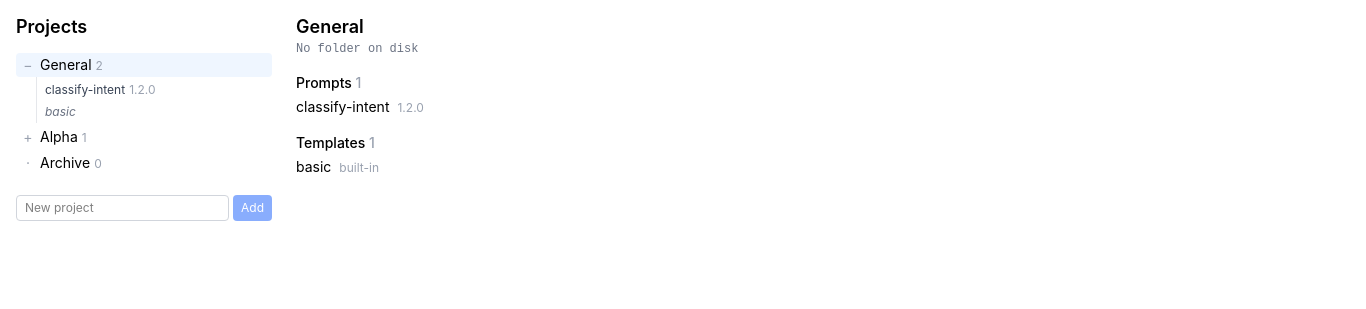
it: Projects › lets the user back out of the deletion
The image size is (1366, 309).
Expected: the heading "General" is shown, x1=296 y1=16 x2=364 y2=37
What coordinates should you click on to do the following:
click the button "Alpha1"
I would click on:
 (154, 137)
Its box is x1=40 y1=125 x2=268 y2=149.
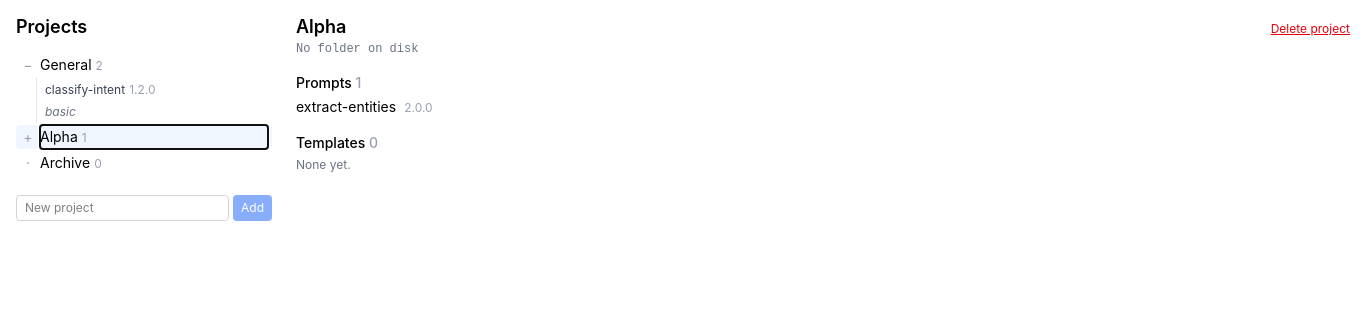
What coordinates should you click on to do the following:
click the button "Delete project"
I would click on:
 (1310, 29)
Its box is x1=1271 y1=21 x2=1350 y2=37.
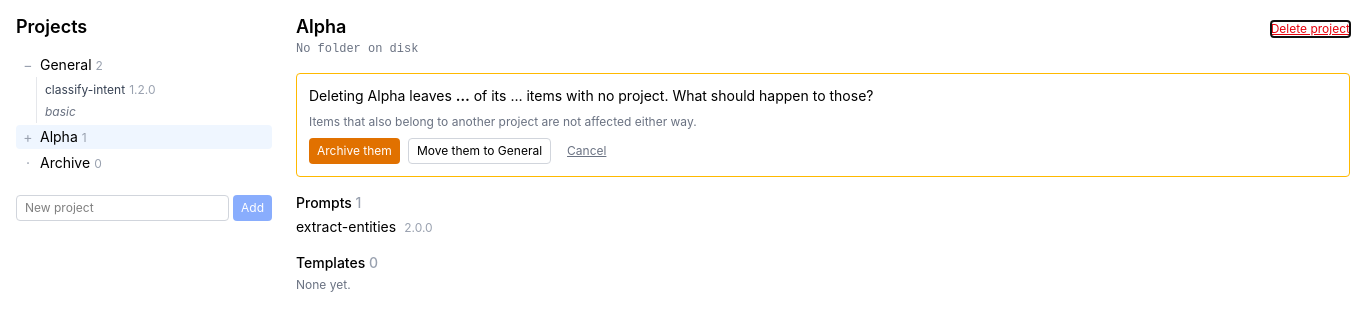
What coordinates should you click on to do the following:
click the button "Cancel"
I would click on:
 (587, 151)
Its box is x1=559 y1=138 x2=614 y2=164.
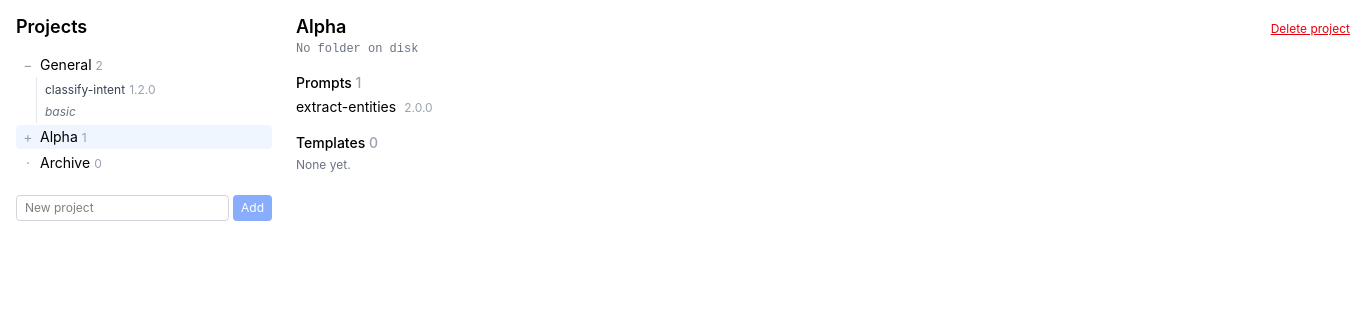
Now the button "Archive them" is gone
